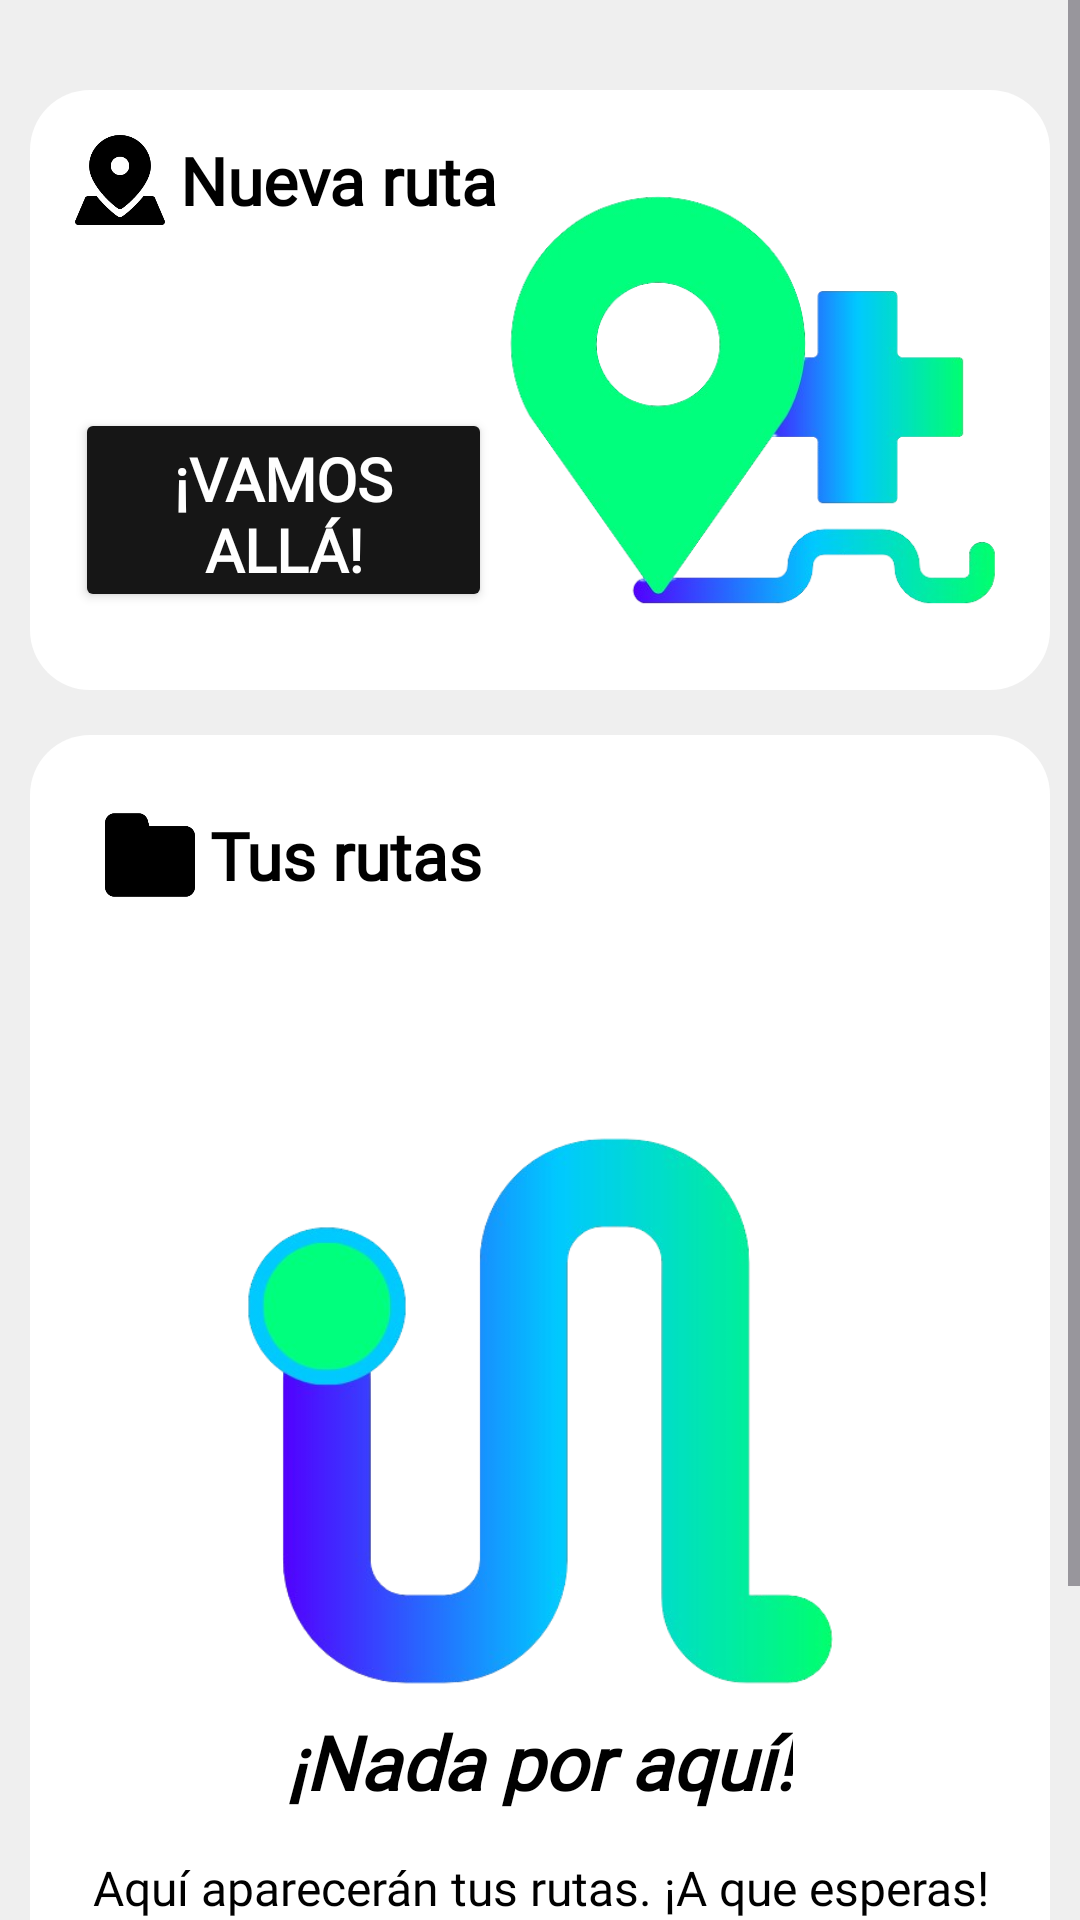

Where to tap for icons on this 1080px×1920px app screen, as point (x, y):
folder: point (150, 855)
